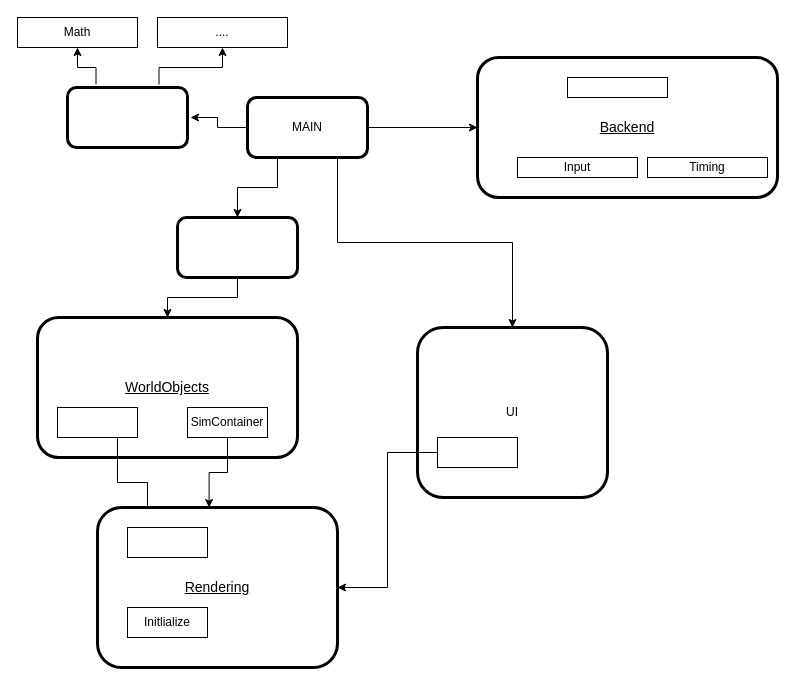
Some shapes in this 796 by 686 pixel diagram are drawn without their labels. Each missing label, with the centre of its shape:
renderer: the point at 167,542
Scene: the point at 237,247
Simulator: the point at 127,117
ui _renderer: the point at 477,452
Windowing: the point at 617,87
WorldObject: the point at 97,422
